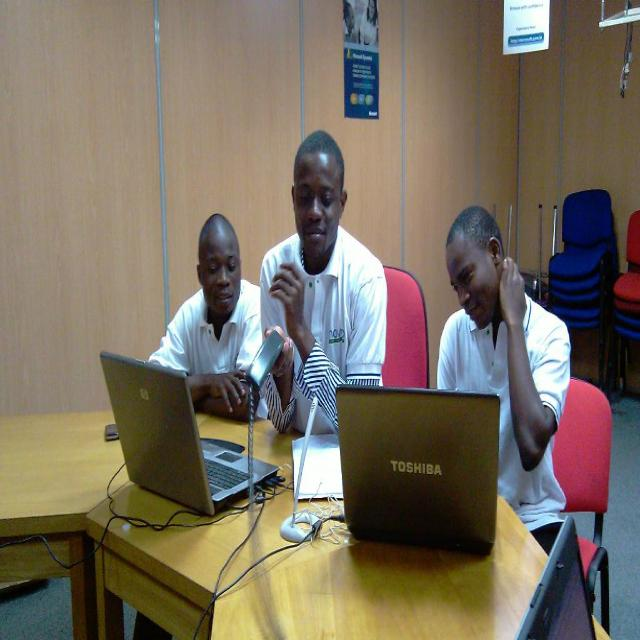chair: (552, 373, 612, 632), (548, 188, 620, 387), (382, 264, 429, 388), (612, 209, 640, 399)
desk: (0, 413, 614, 639)
laptop: (99, 351, 274, 516), (336, 386, 500, 556), (516, 515, 598, 639)
person: (436, 202, 573, 530), (258, 128, 388, 438), (146, 211, 272, 424)
